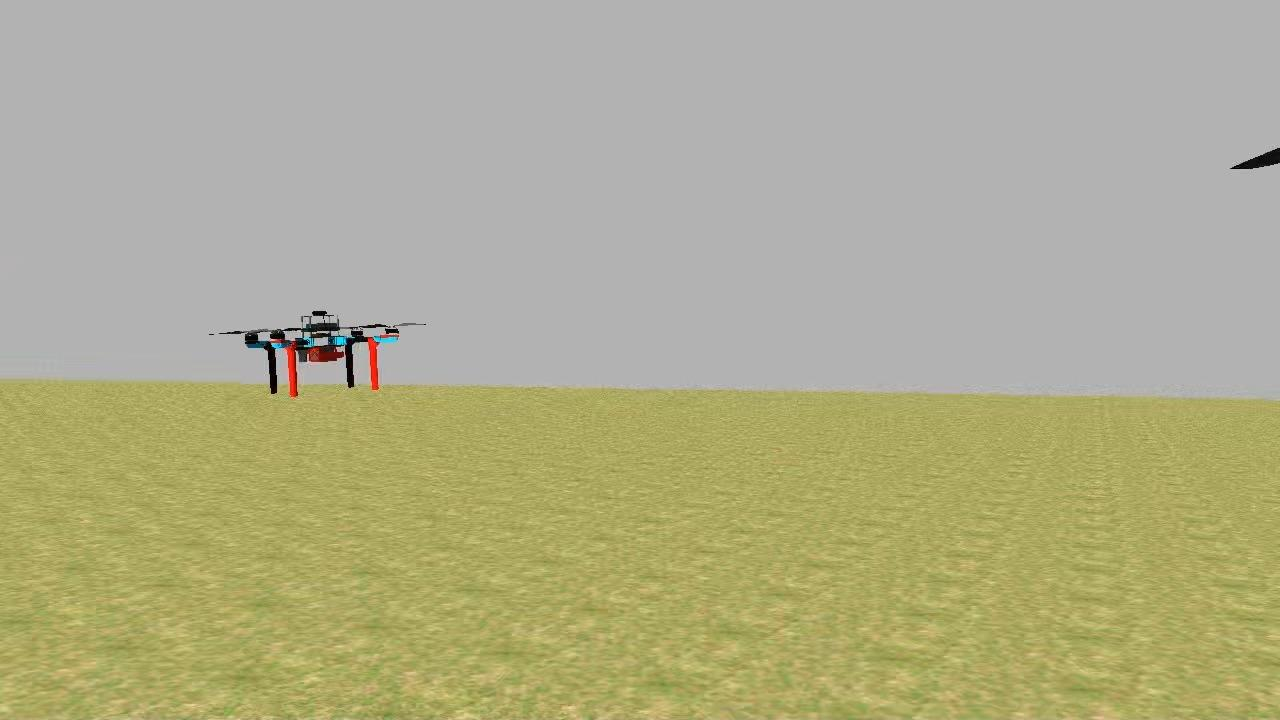UAV: (238, 304, 410, 396)
